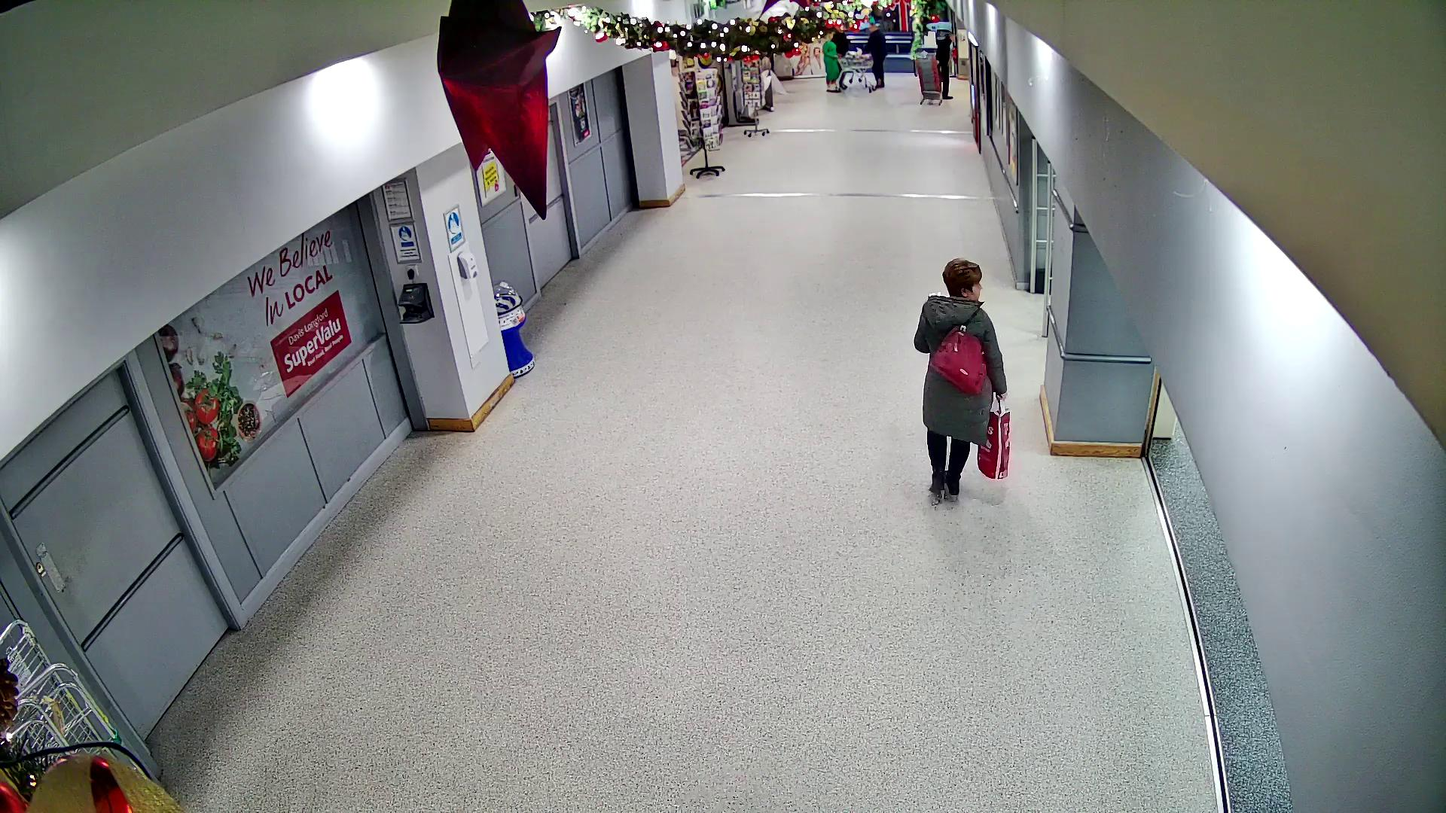backpack-or-handbag: (928, 326, 987, 397)
filled-shopping-bags: (976, 406, 1012, 480)
person: (914, 259, 1007, 500)
person-with-backpack-handbag-and-shopping-bag-s-: (914, 259, 1012, 501)
